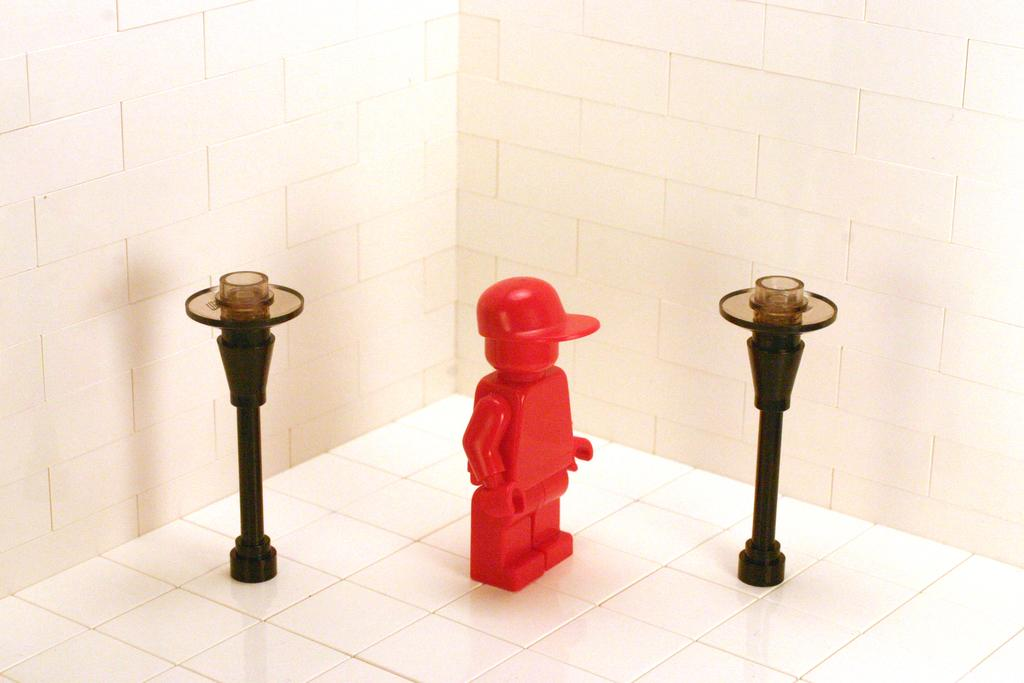Hat: (478, 274, 600, 340)
